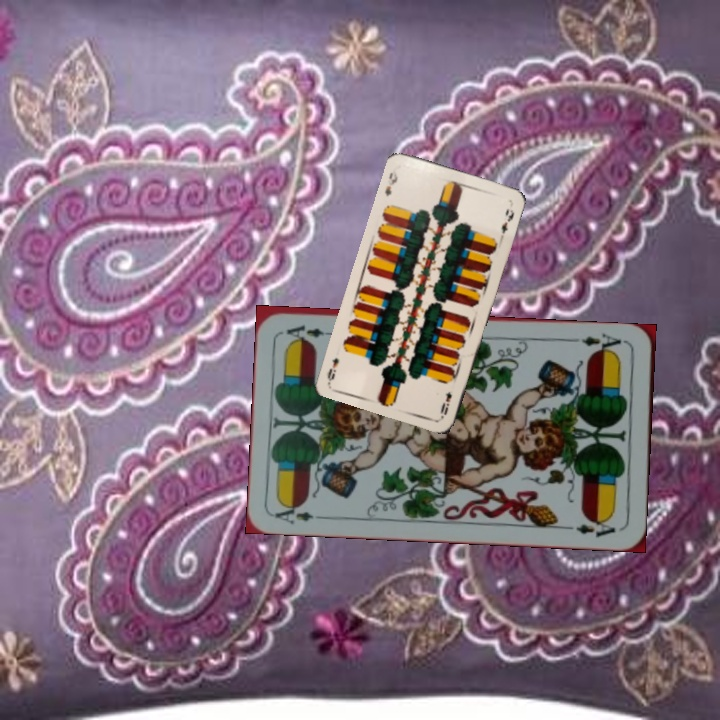E9: (381, 163, 400, 198), (436, 388, 454, 420)
EA: (271, 499, 330, 527), (577, 329, 629, 357)
